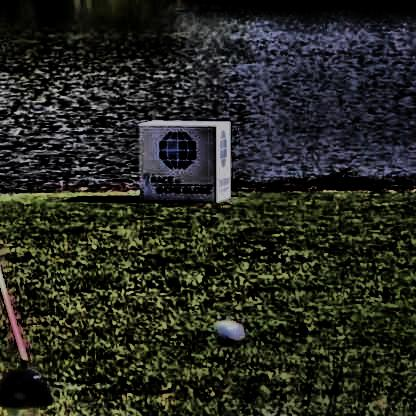golfball: (206, 314, 245, 344)
